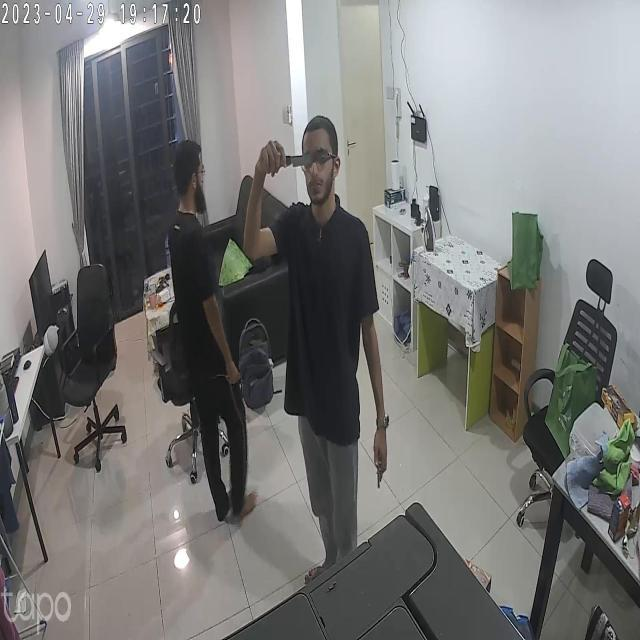Knife: (270, 148, 338, 177)
